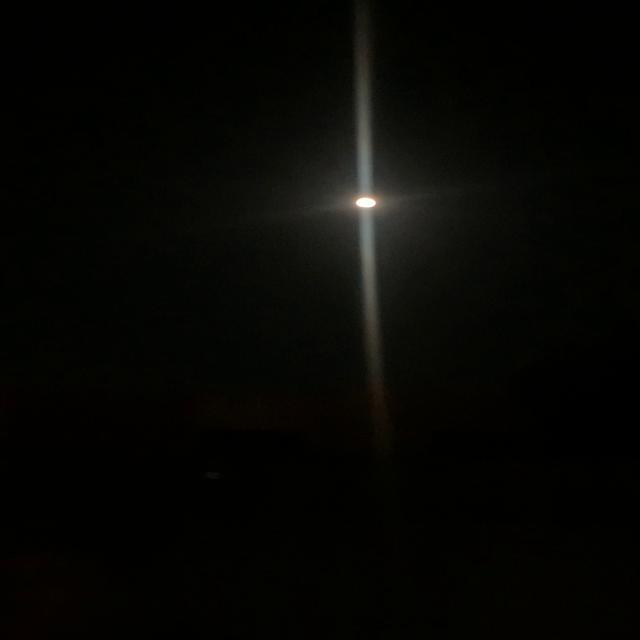moon: (340, 182, 402, 214)
